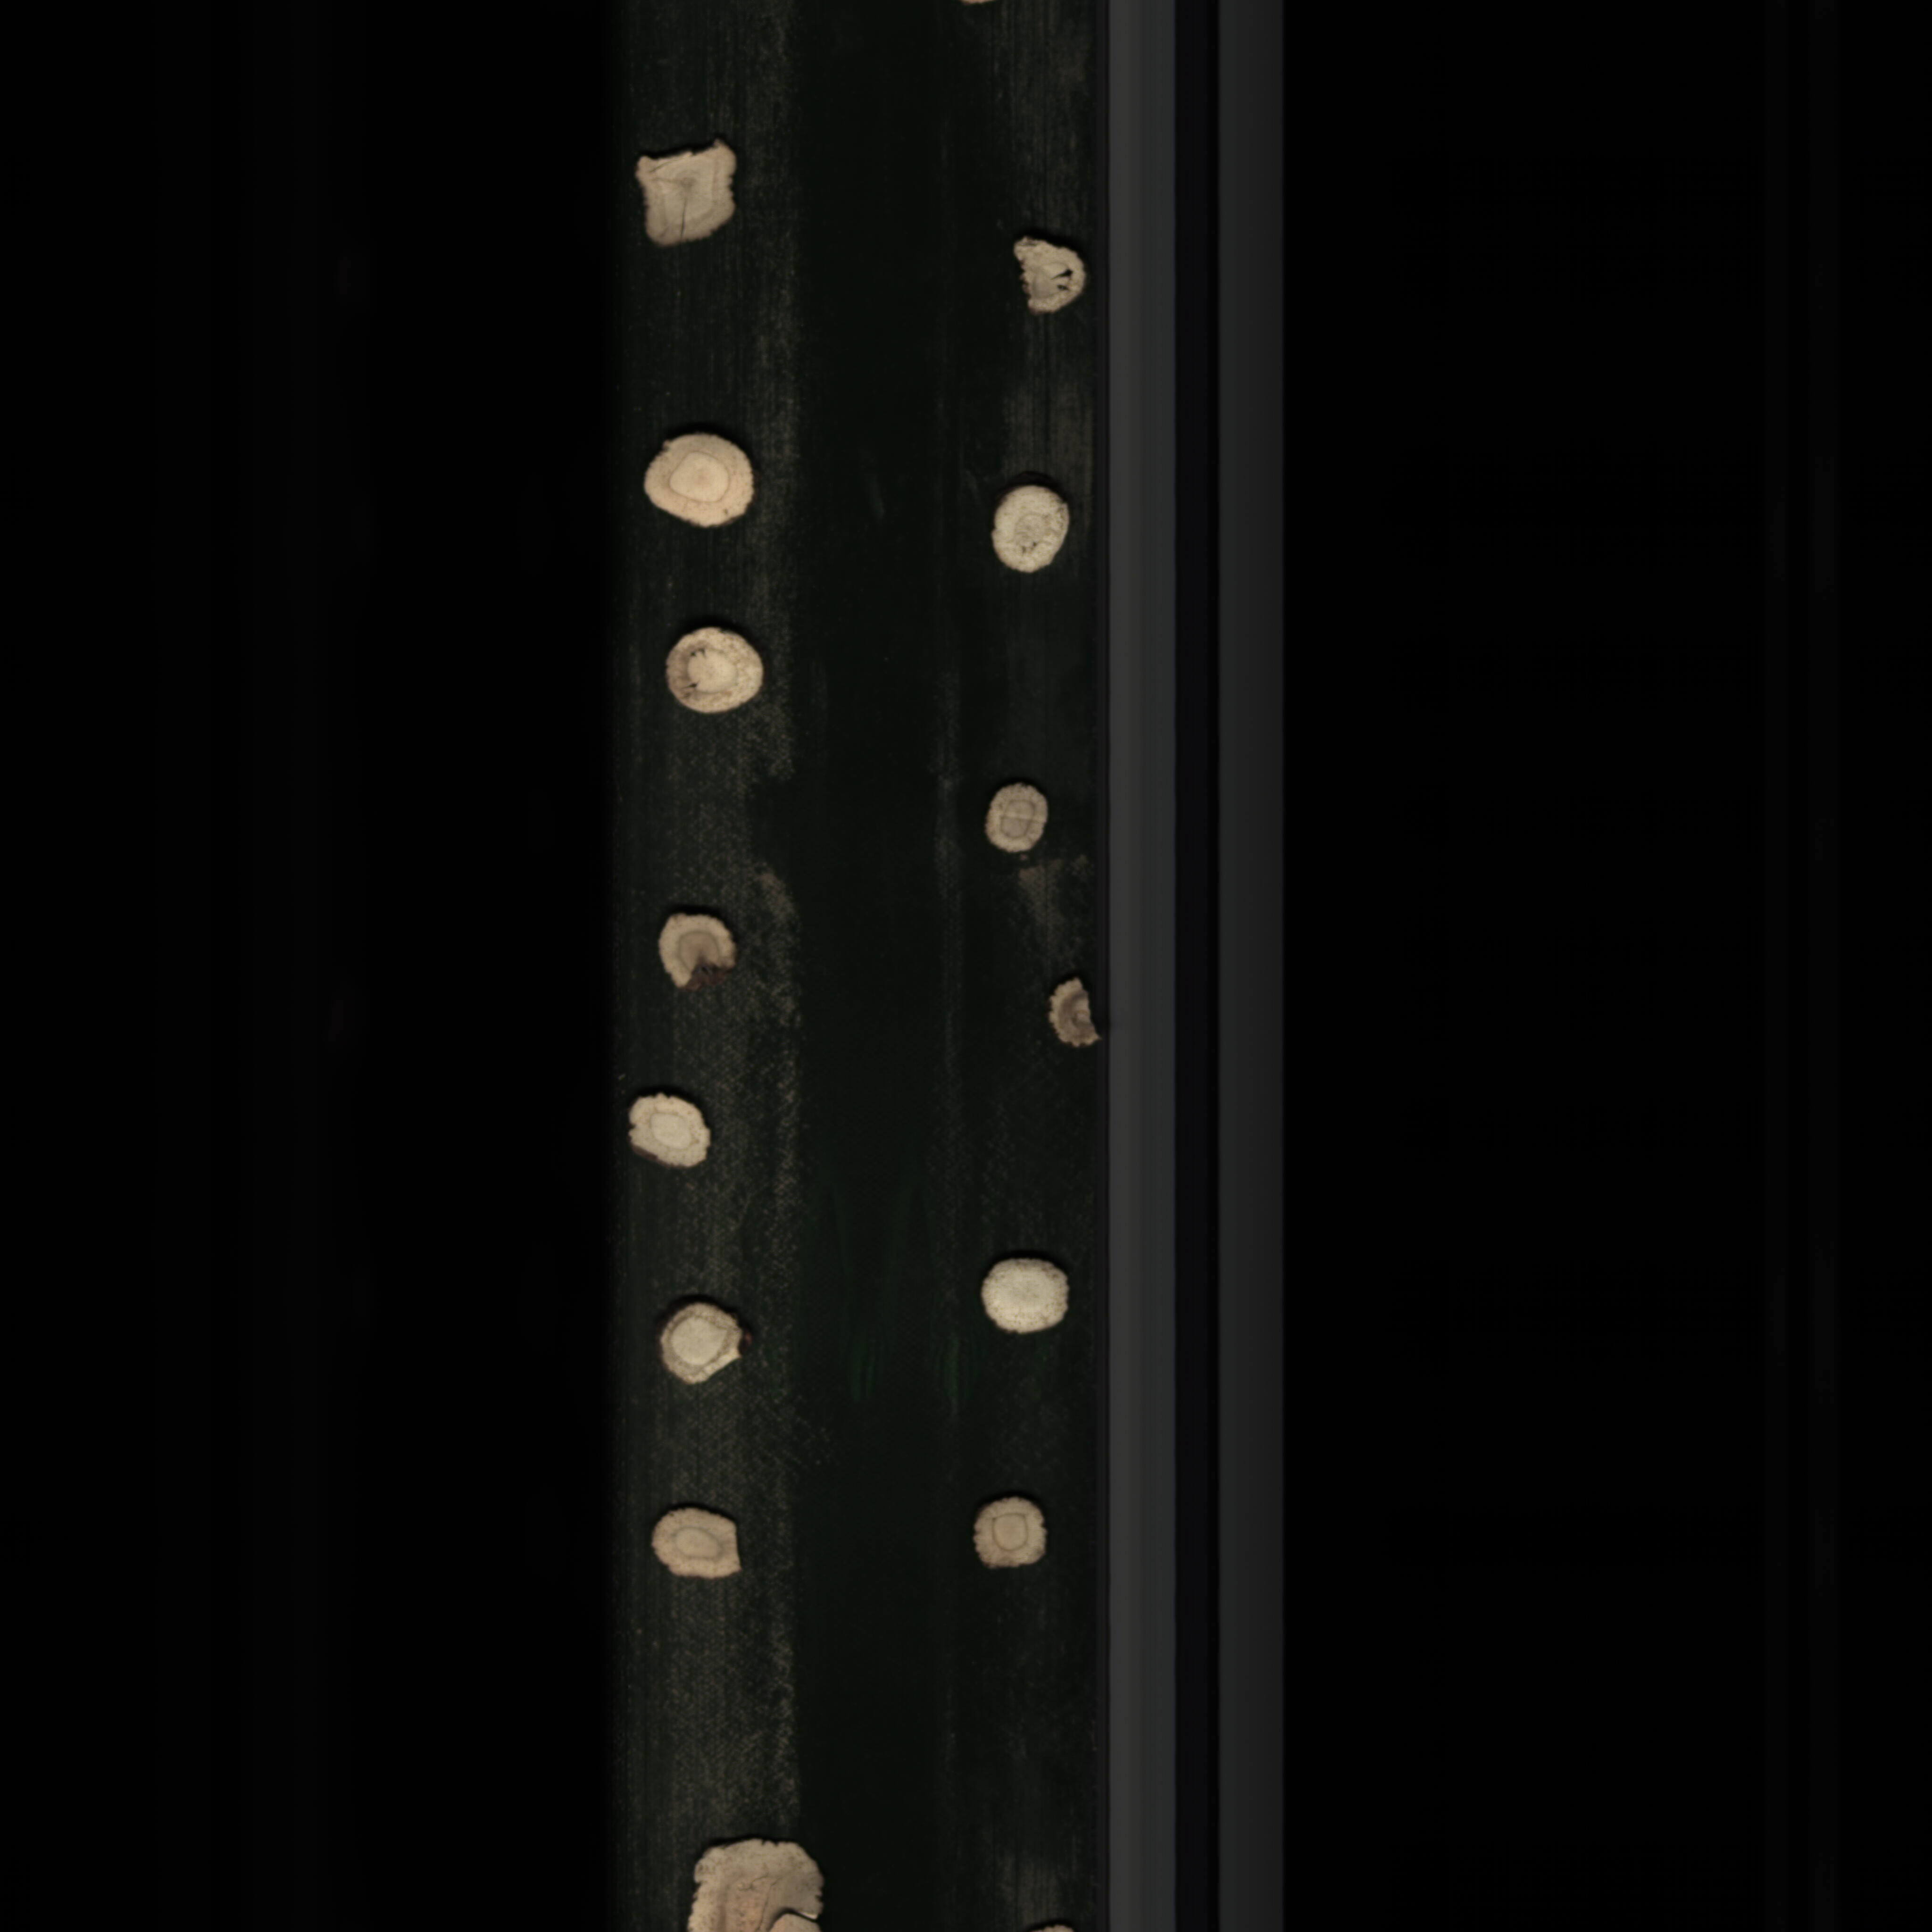debris: (625, 143, 752, 258), (1007, 230, 1093, 322)
distortion: (644, 908, 745, 1005)
moldy: (1040, 971, 1104, 1056)
